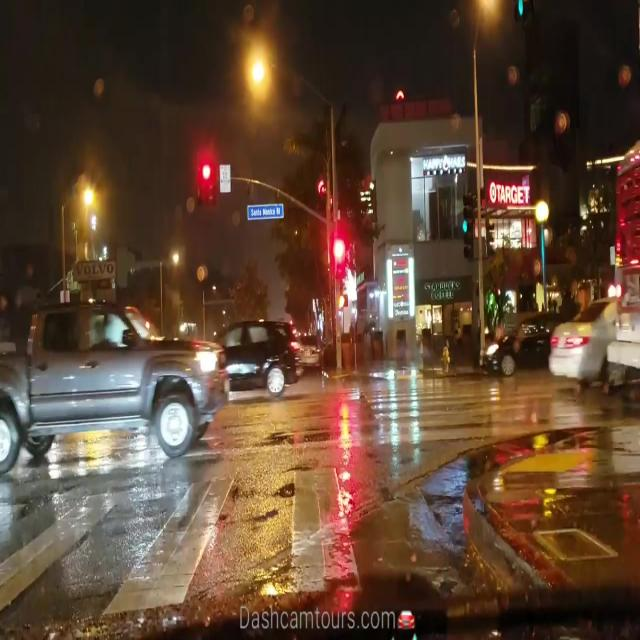Car: (22, 299, 225, 456), (544, 294, 607, 389), (224, 320, 299, 398), (483, 319, 546, 375)
